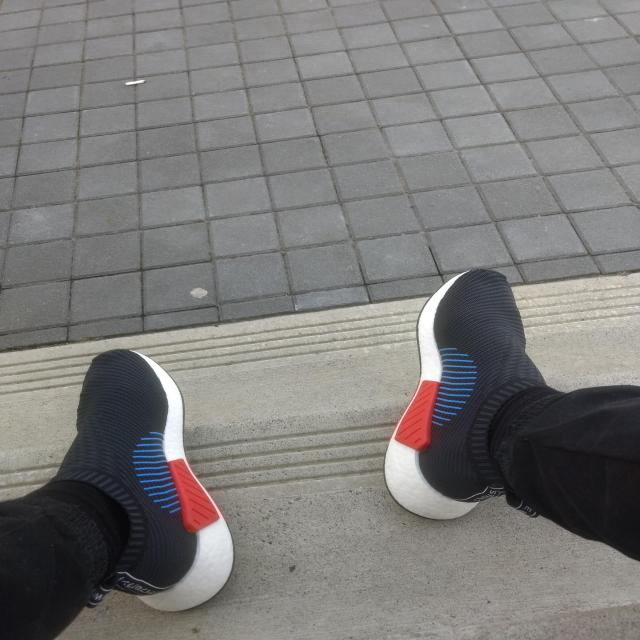shoe: (45, 342, 247, 626), (382, 261, 545, 536)
